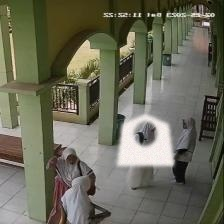Mukena: (116, 113, 174, 166)
